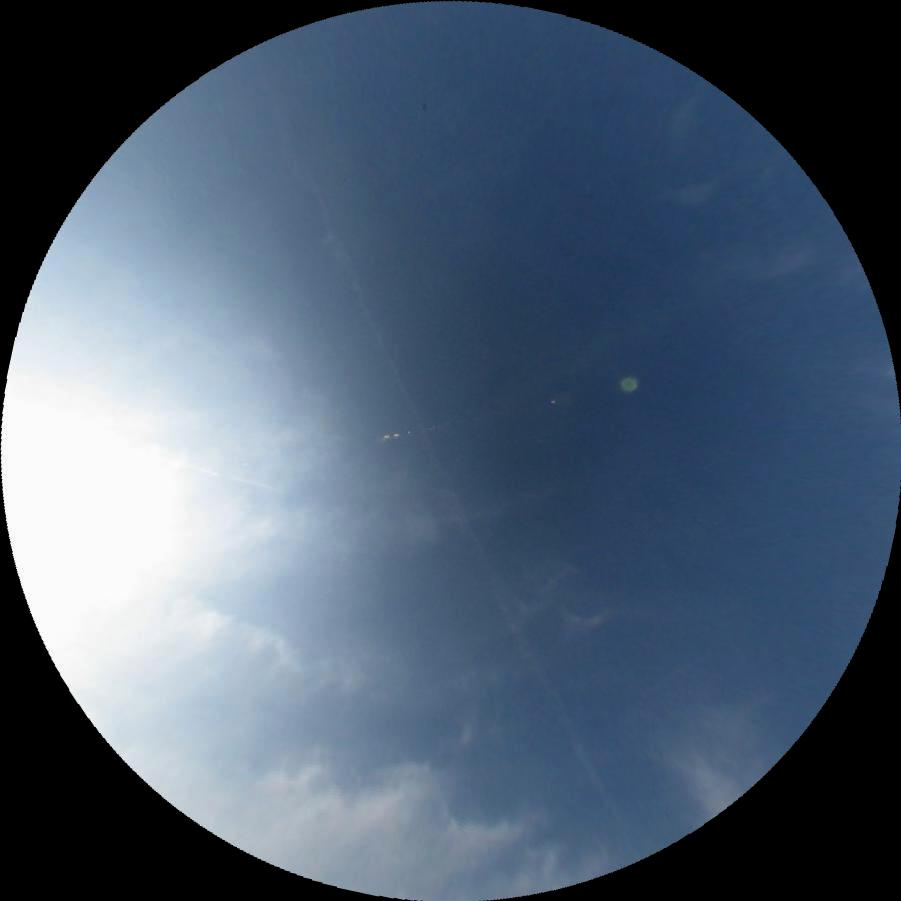contrail old: (226, 46, 626, 837)
parasite: (199, 466, 282, 492)
